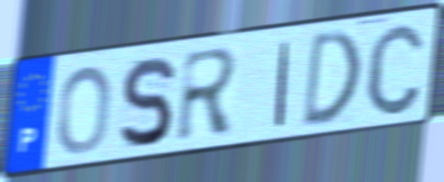C: (363, 19, 427, 120)
D: (299, 25, 364, 133)
I: (272, 39, 293, 129)
O: (55, 63, 114, 158)
R: (174, 44, 241, 146)
S: (117, 53, 177, 152)
